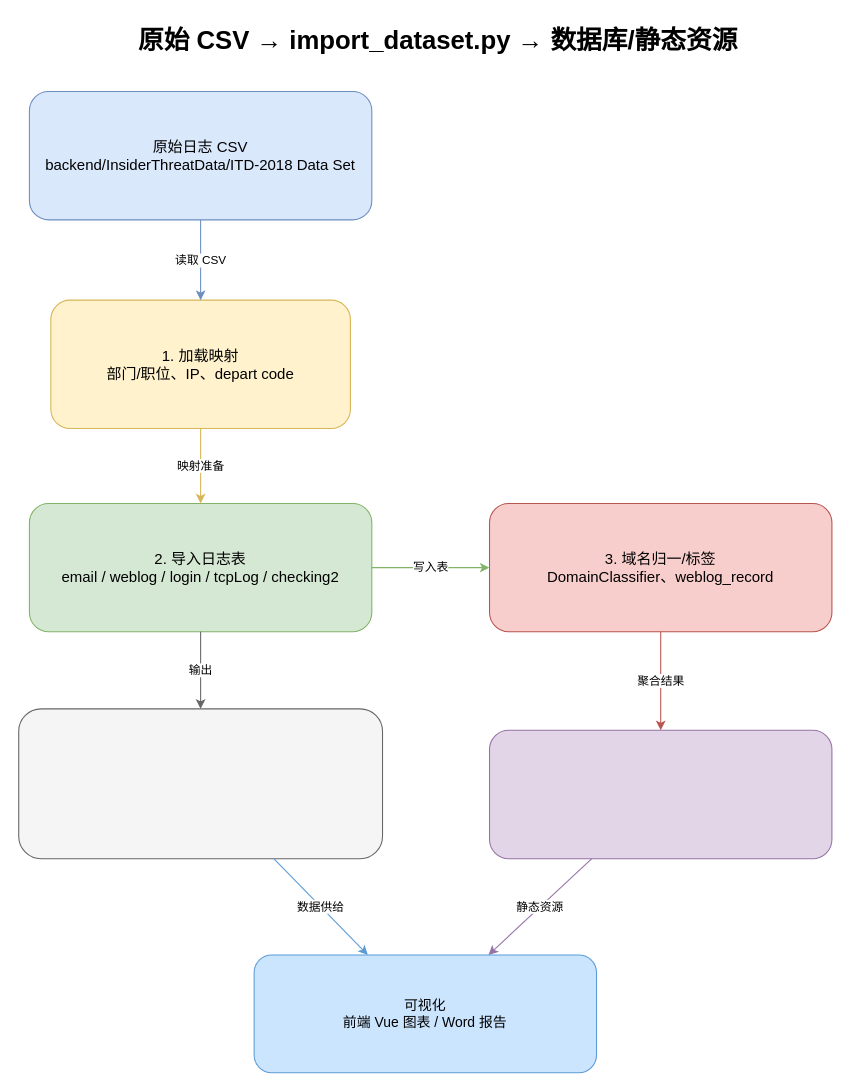
Some shapes in this 851 by 1091 pixel diagram are drawn without their labels. The centre of each missing label's shape, as x and y in pixels:
"MySQL 输出 link、department、email、weblog、login、tcpLog、checking2、weblog_record" belongs at (200,783).
"静态 JSON ip_id.json、1284.json、weblog_record_groups.json" belongs at (660,794).
